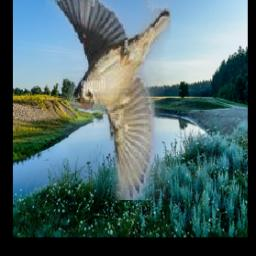Sparrow: (46, 0, 171, 201)
